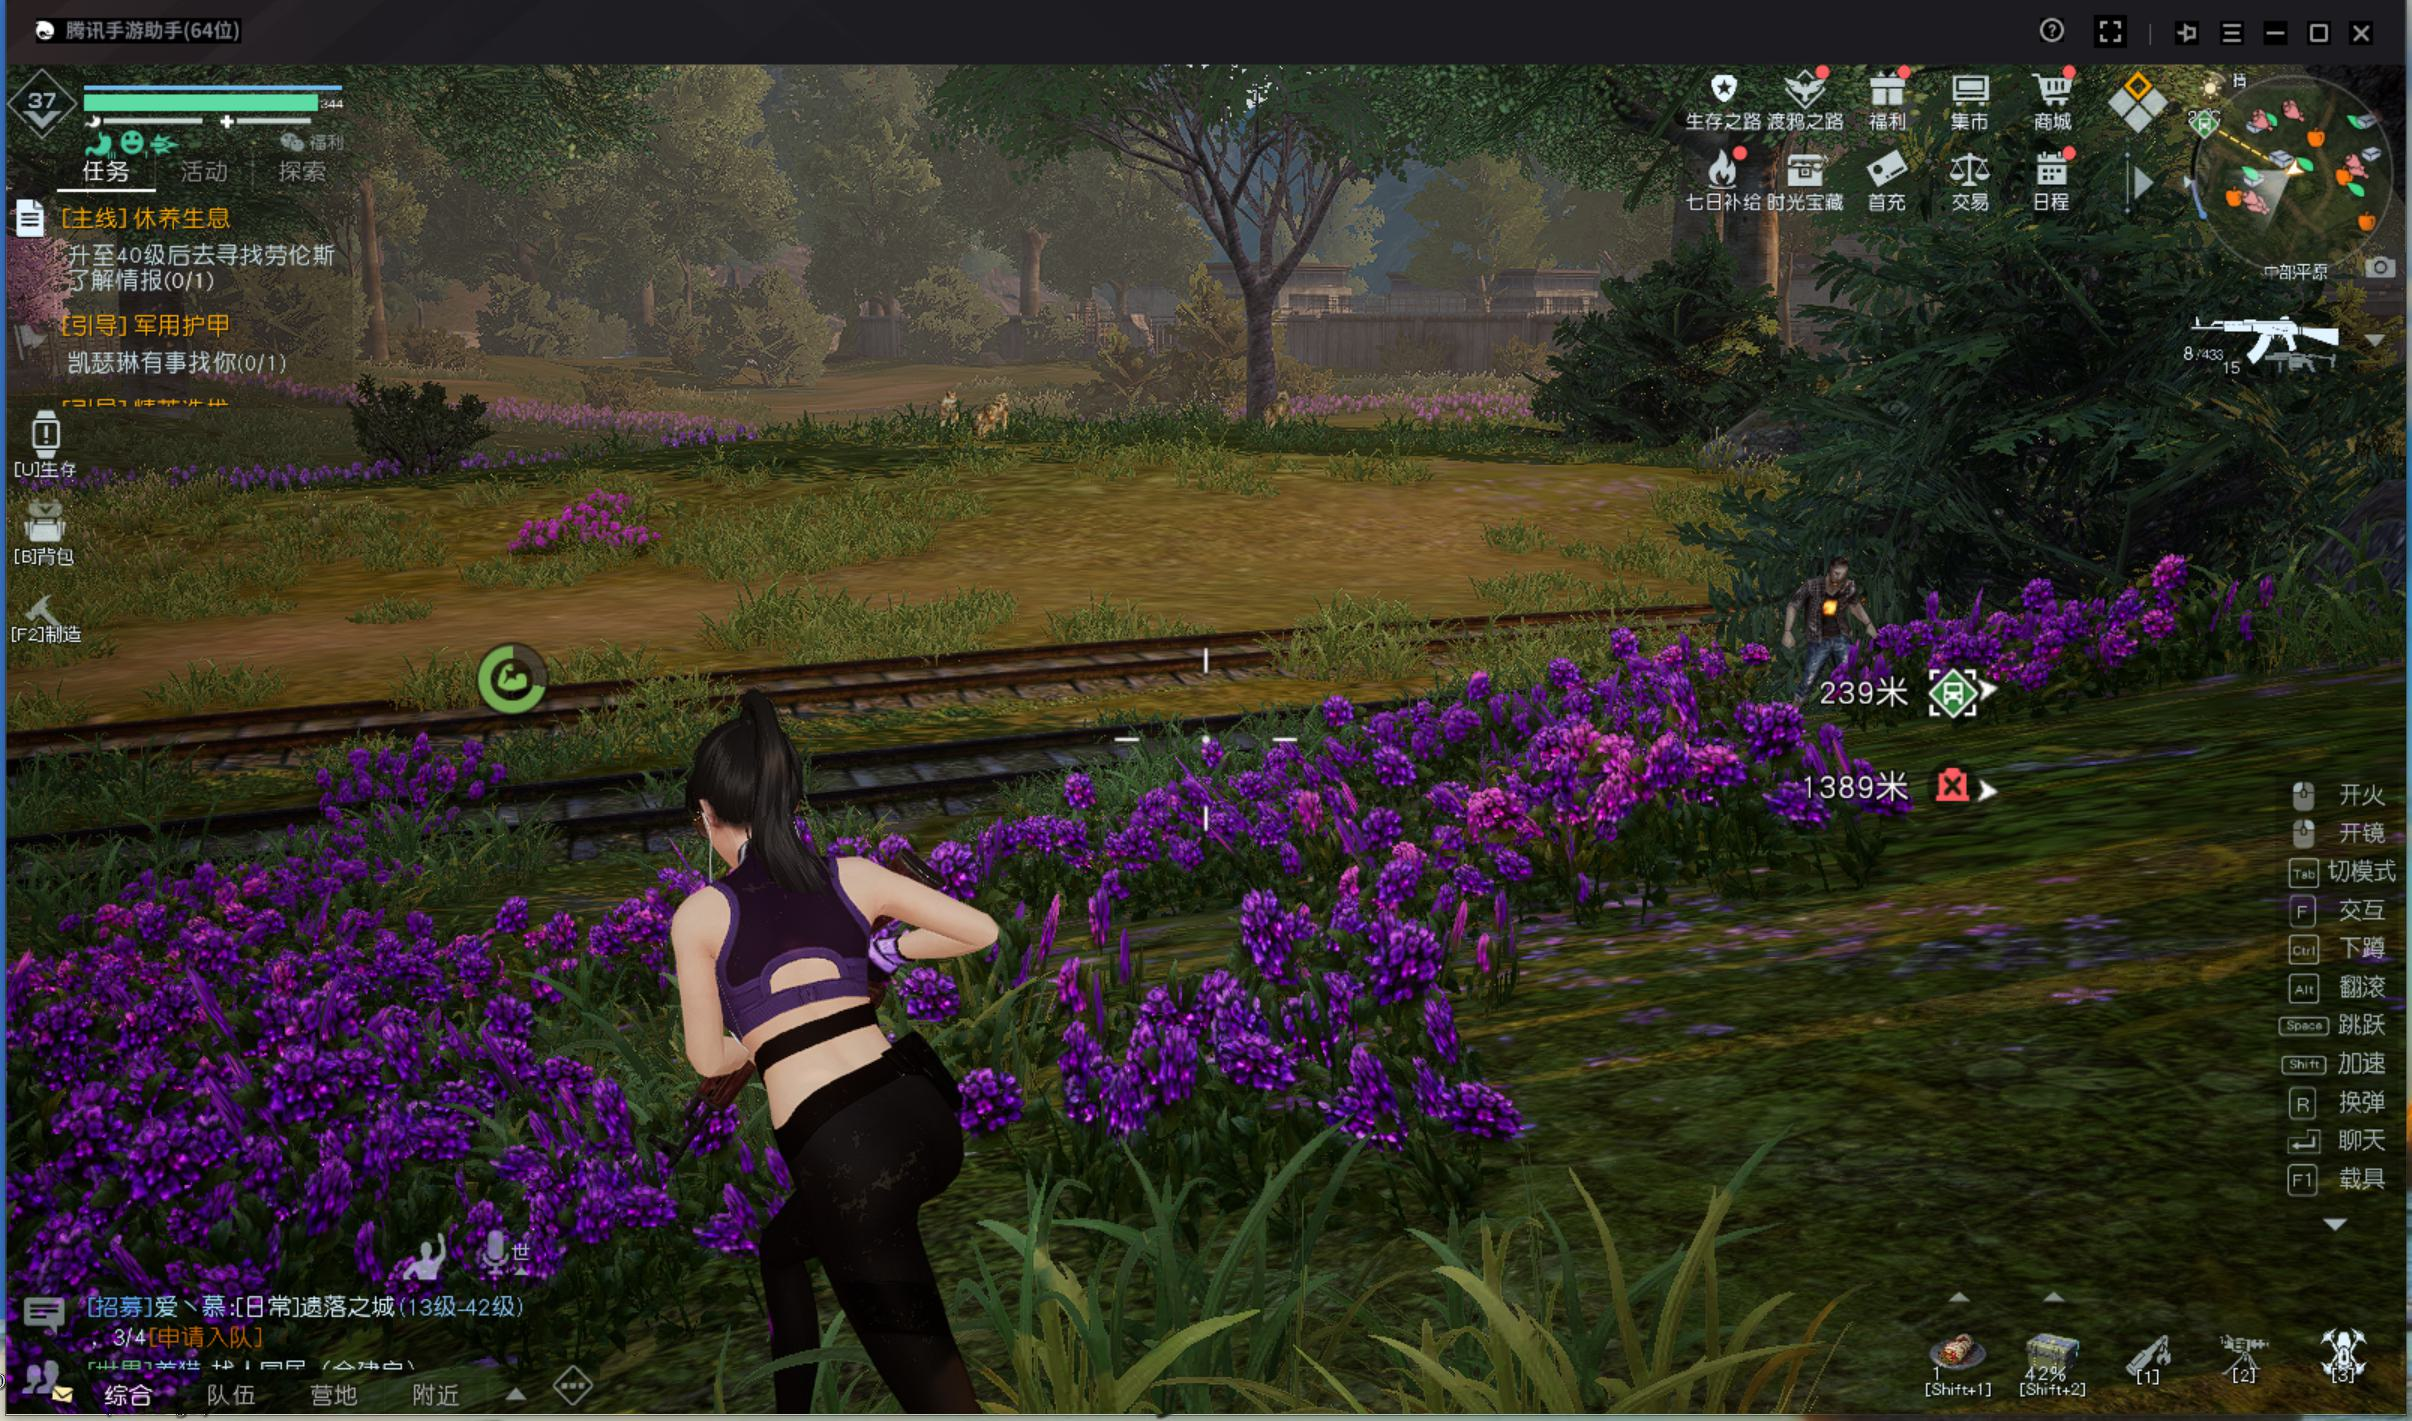tree: (1228, 279, 1289, 425), (352, 218, 399, 381), (1010, 245, 1050, 369)
